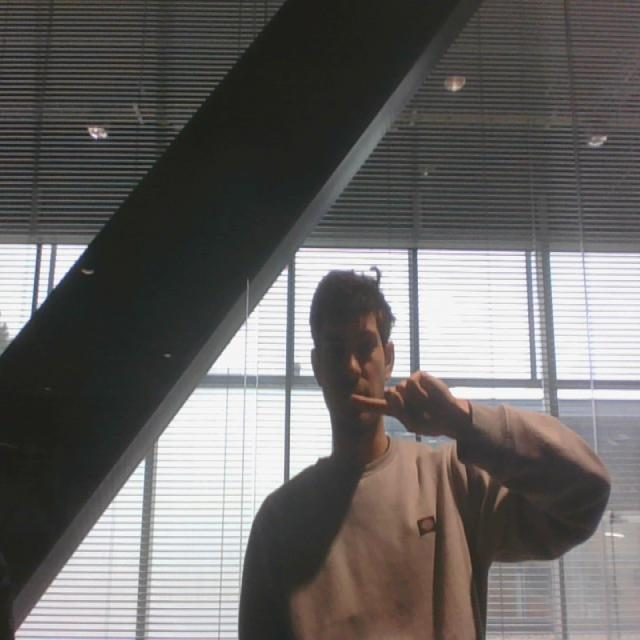left: (347, 366, 457, 443)
